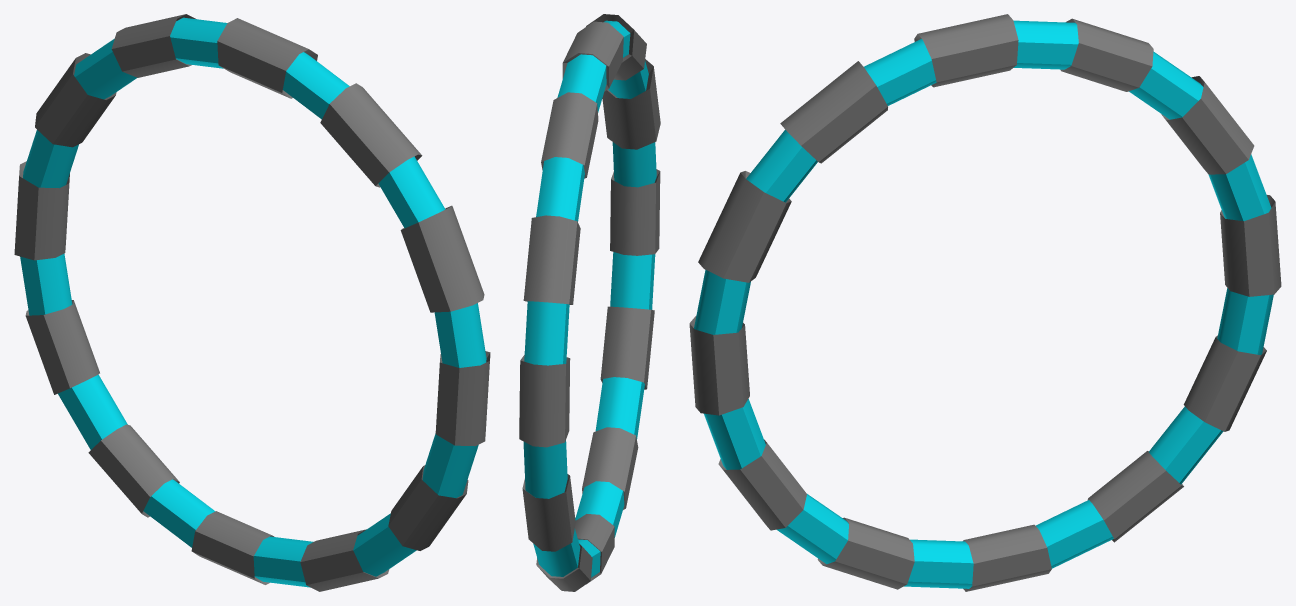
Rendered from PouterCircle02.fbx.
3 renders of one model, left to right at view 1: azimuth 30°, elevation 25°; view 2: azimuth 150°, elevation 25°; view 3: azimuth 270°, elevation 25°, orthographic. The views are drawn at different scales.
Parts seen in each view (by area): view 1: MainPortal; view 2: MainPortal; view 3: MainPortal.
Part boxes in pixels (bbox=[...]): MainPortal: bbox=[14, 14, 490, 591]; MainPortal: bbox=[519, 14, 660, 591]; MainPortal: bbox=[689, 14, 1281, 591].
Bounding box in the file's own units: 126 × 312 × 297.
